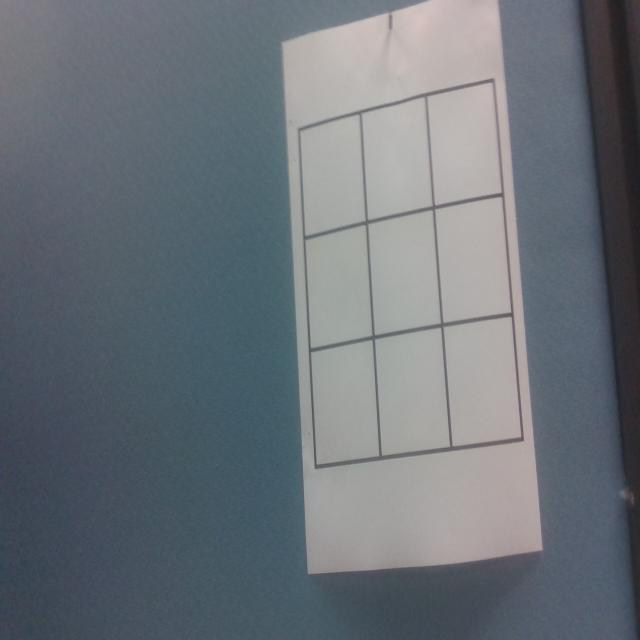null: (444, 315, 522, 452), (375, 322, 451, 459), (436, 195, 513, 327), (427, 82, 501, 207), (370, 211, 442, 339), (312, 338, 380, 469), (306, 225, 373, 351), (364, 99, 433, 221), (301, 115, 365, 237)
table: (279, 73, 529, 475)
